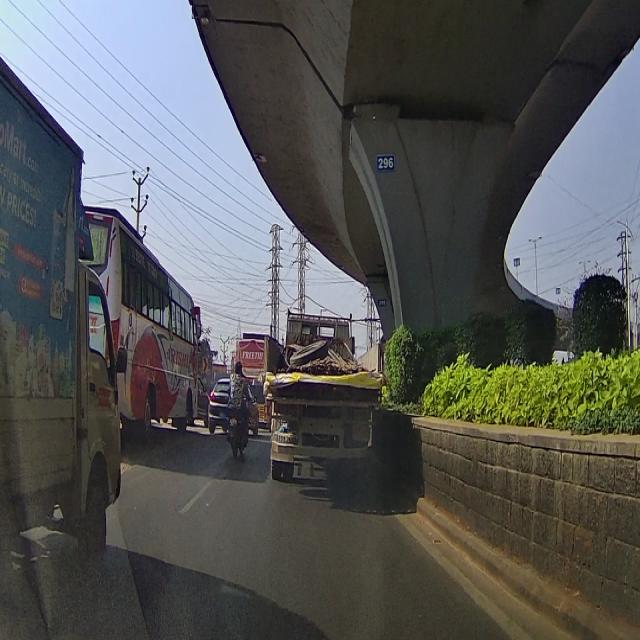right-hand-curve: (200, 351, 209, 366)
